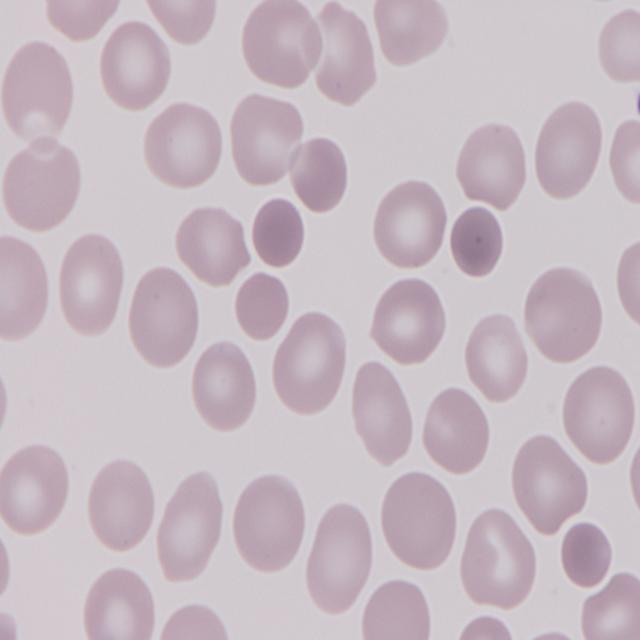RBC: (152, 470, 226, 590), (304, 497, 374, 622), (522, 262, 606, 366), (507, 433, 591, 536), (460, 506, 542, 611), (562, 360, 640, 470), (271, 314, 351, 421), (378, 470, 460, 574), (0, 36, 76, 147), (230, 470, 306, 576), (227, 86, 306, 186), (141, 102, 227, 192), (128, 266, 202, 370), (1, 138, 82, 233), (370, 178, 448, 276), (242, 0, 326, 91), (53, 230, 124, 337), (370, 274, 450, 368), (532, 100, 607, 199), (98, 17, 174, 112), (190, 338, 264, 434), (309, 6, 378, 108), (0, 441, 73, 537), (352, 363, 418, 468), (87, 457, 157, 555), (455, 119, 532, 208), (420, 384, 494, 476), (464, 308, 534, 405), (175, 204, 253, 287), (0, 232, 54, 342), (81, 565, 159, 640), (371, 0, 450, 73), (361, 578, 437, 640), (578, 570, 640, 640), (140, 0, 225, 47), (597, 1, 640, 86), (38, 0, 124, 41), (159, 600, 238, 640), (608, 114, 640, 210), (613, 232, 640, 338)
Spherocyte: (289, 135, 352, 216), (450, 199, 510, 278), (232, 268, 290, 346), (248, 197, 308, 272), (558, 519, 613, 588)
